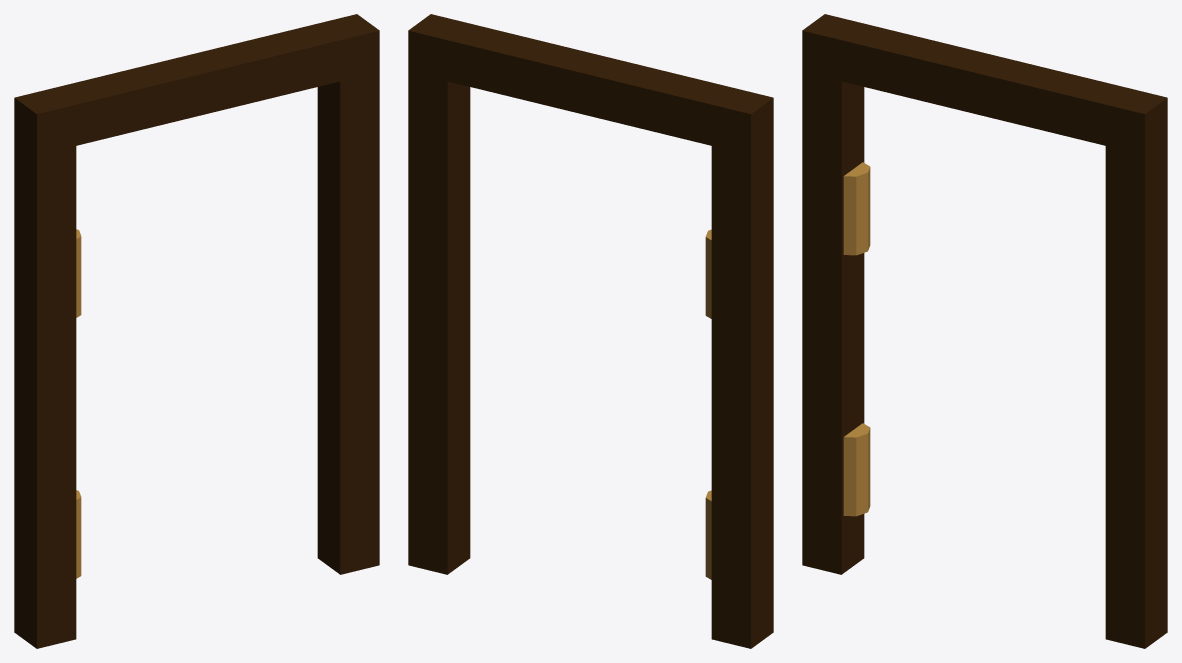
The model's file is Door_Frame.fbx.
3 renders of one model, left to right at view 1: azimuth 30°, elevation 25°; view 2: azimuth 150°, elevation 25°; view 3: azimuth 330°, elevation 25°, orthographic.
Visible parts, largest first — view 1: Door_Frame; view 2: Door_Frame; view 3: Door_Frame.
Boxes of the visible parts, x1,y1,x2,y2 form: Door_Frame: (14, 14, 379, 648); Door_Frame: (408, 14, 773, 648); Door_Frame: (802, 14, 1167, 648).
Bounding box in the file's own units: 157 × 234 × 18.
